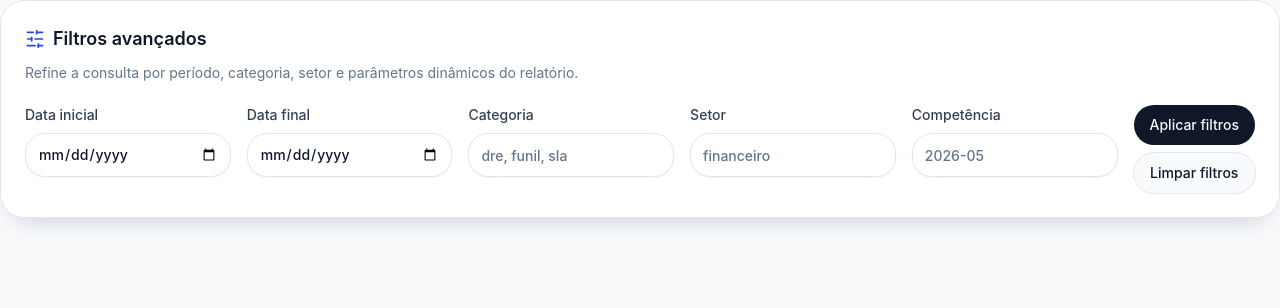
Test case: ReportAdvancedFilters › exibe erro de validacao quando periodo e invalido
The width and height of the screenshot is (1280, 308).
Type "2026-06-01" into the date field labelled "Data inicial".
click(128, 155); type("2026-06-01")  # box x1=25 y1=133 x2=231 y2=177
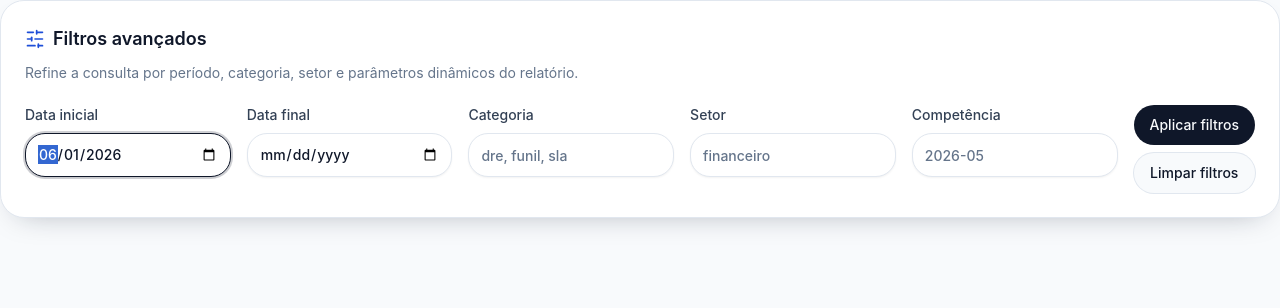
Type "2026-05-01" into the date field labelled "Data final".
click(350, 155); type("2026-05-01")  # box x1=247 y1=133 x2=452 y2=177
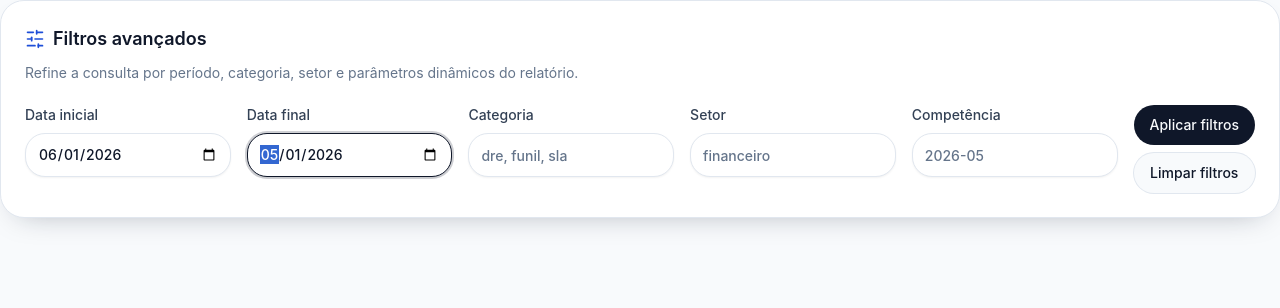
Click the button "Aplicar filtros".
click(1194, 125)  # box x1=1134 y1=105 x2=1255 y2=145
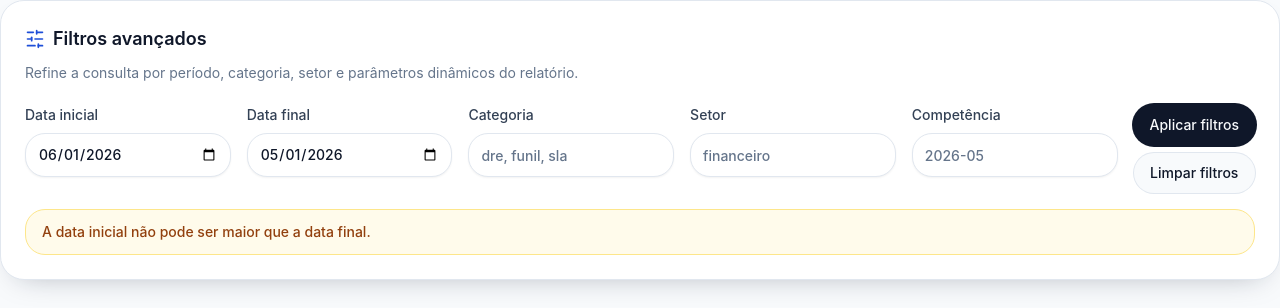
Result: the text "A data inicial não pode ser maior que a data final." is shown at x1=25 y1=209 x2=1255 y2=255
